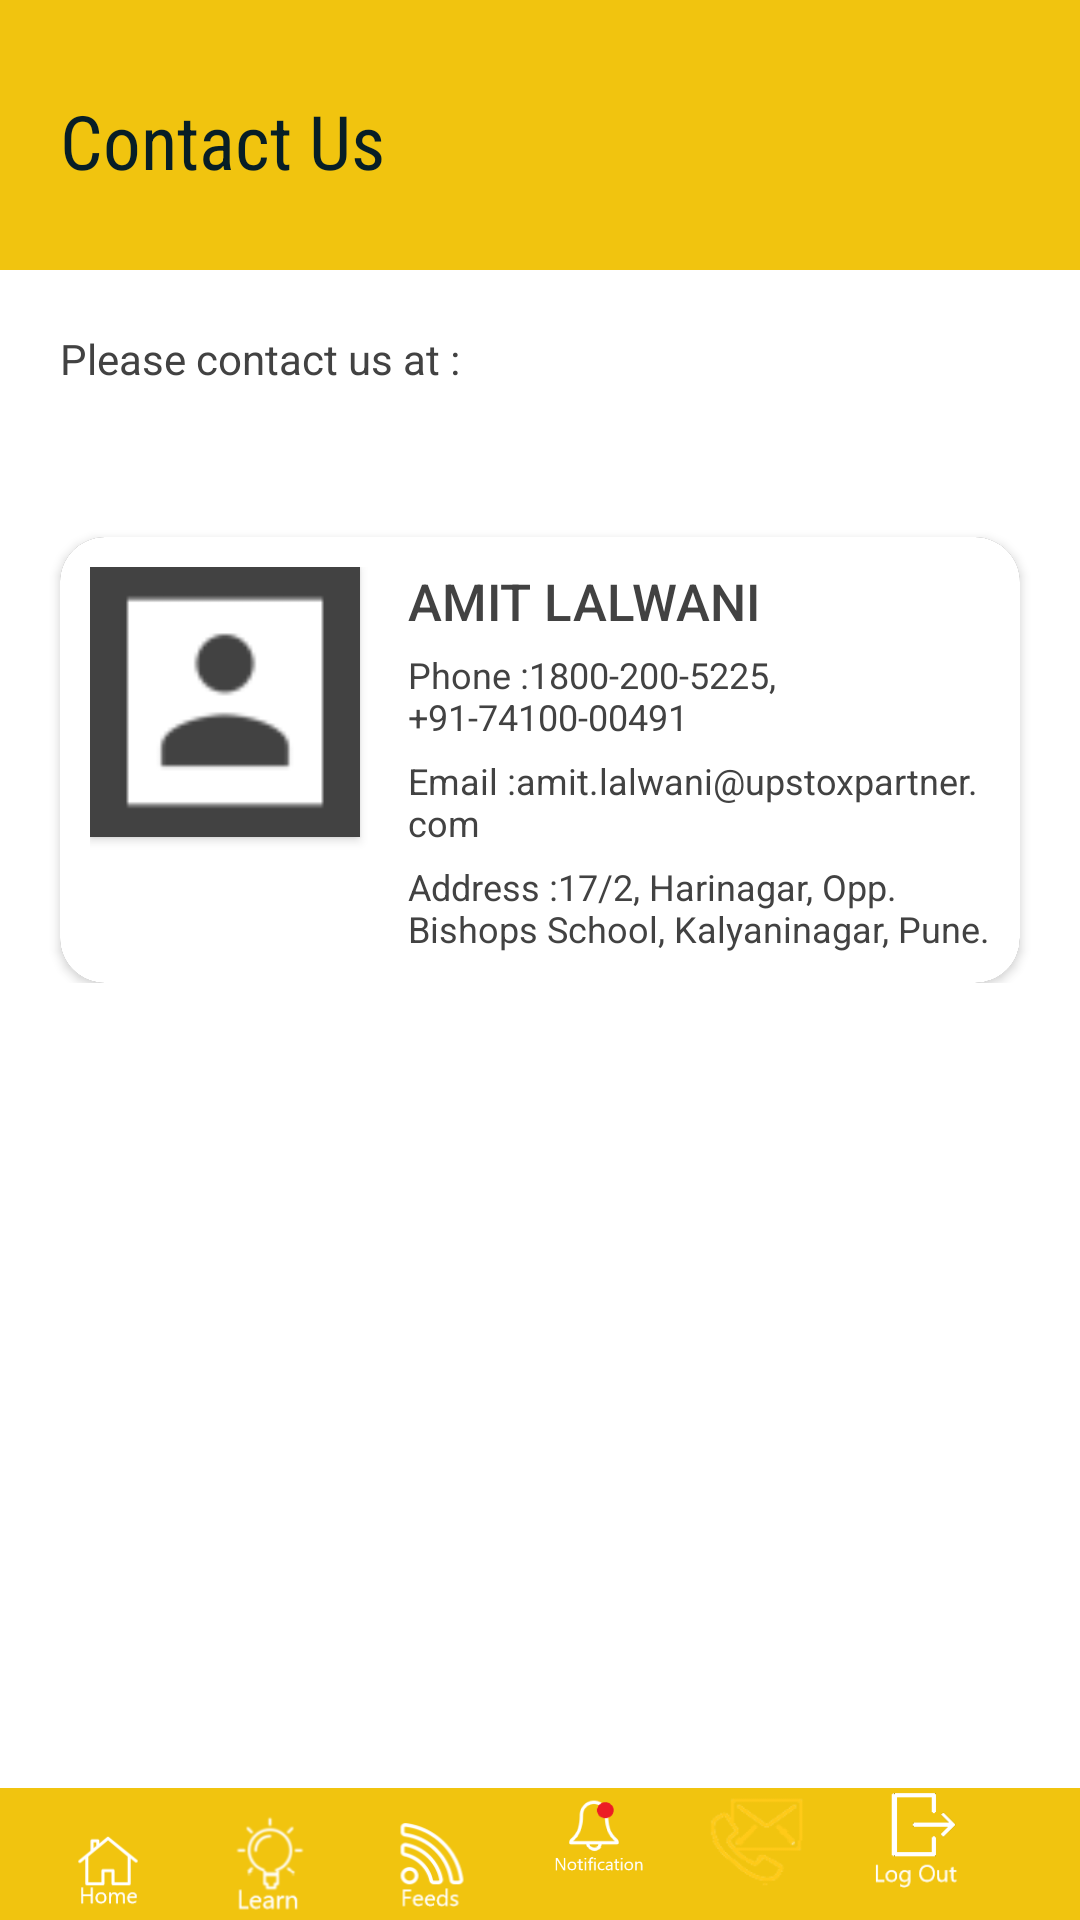

Where icons sit on this 1080w x 1920h app screen, as (x1, y1, x2, y2):
contact: (713, 1805, 796, 1878)
